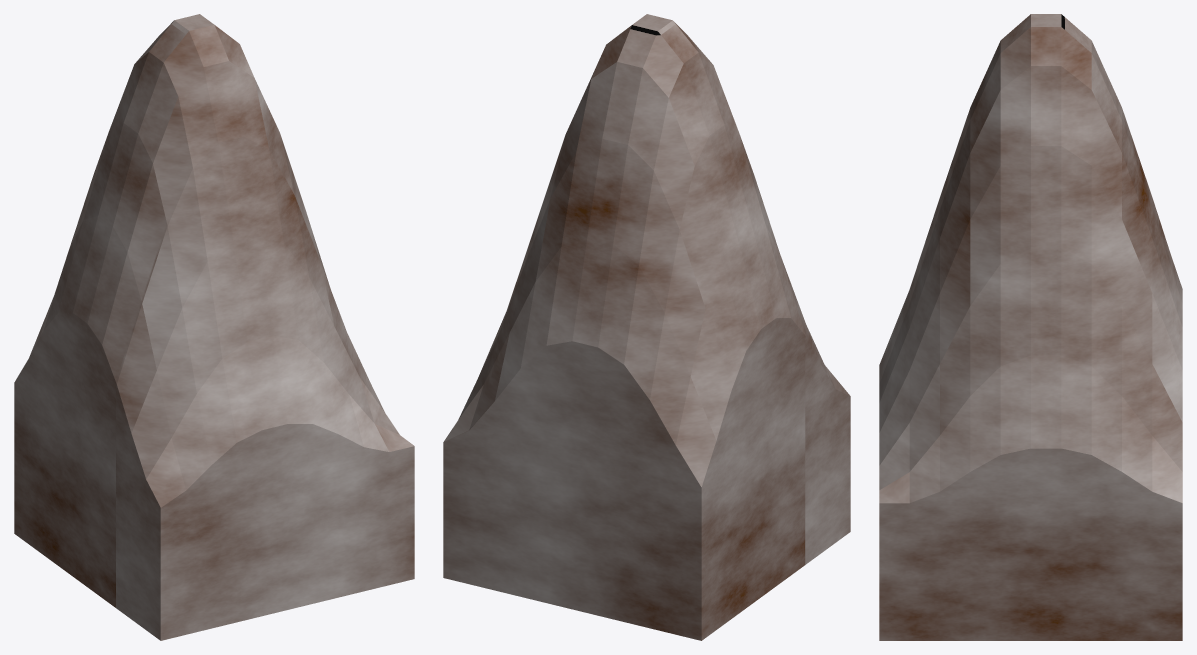
The model's file is MountainPeak1.glb.
3 renders of one model, left to right at view 1: azimuth 30°, elevation 25°; view 2: azimuth 150°, elevation 25°; view 3: azimuth 270°, elevation 25°, orthographic. The views are drawn at different scales.
Visible parts, largest first — view 1: Cube; view 2: Cube; view 3: Cube.
Boxes of the visible parts, box(x1,y1,x2,y2) form: Cube: box(14, 14, 414, 640); Cube: box(443, 14, 850, 640); Cube: box(879, 14, 1182, 640).
Size of the model in its own units: 4 by 8 by 4.
1 material, 1 textured.
